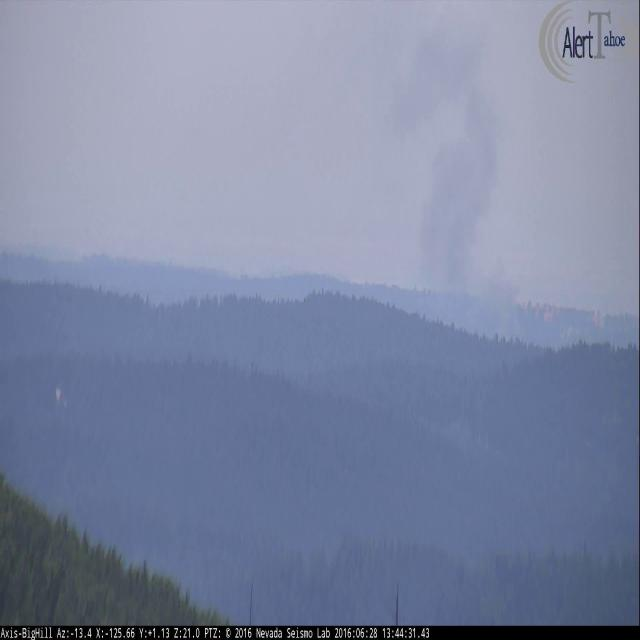smoke: (384, 13, 532, 339)
